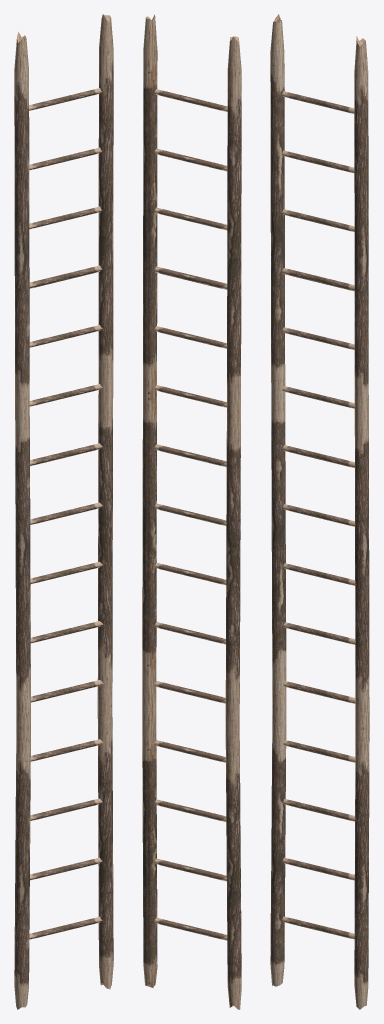
File: лестницы.fbx
3 views of the same model, side by side, from view 1: azimuth 30°, elevation 25°; view 2: azimuth 150°, elevation 25°; view 3: azimuth 330°, elevation 25° (orthographic).
Visible parts, largest first — view 1: quarry_ladder_LOD0; view 2: quarry_ladder_LOD0; view 3: quarry_ladder_LOD0.
Boxes of the visible parts, x1,y1,x2,y2 form: quarry_ladder_LOD0: (14,14,113,1009); quarry_ladder_LOD0: (142,14,241,1009); quarry_ladder_LOD0: (270,14,369,1009).
Bounding box in the file's own units: 329 × 3166 × 48.77.
1 material, 1 textured.
